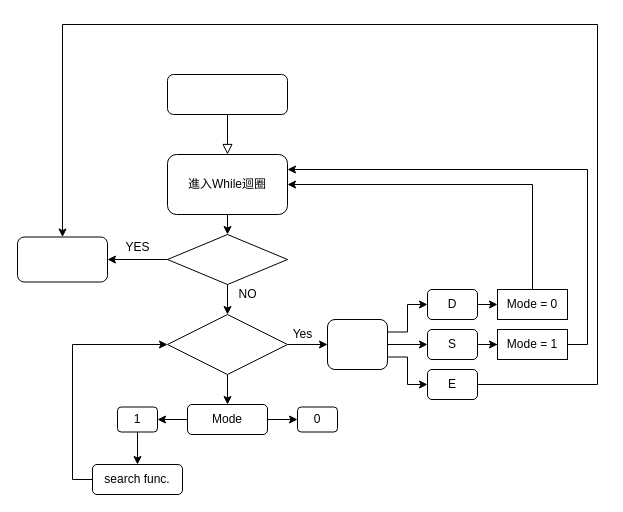
Some shapes in this 623 by 512 pixel diagram are drawn without their labels. The box of each missing label's shape, as (x1, y1, x2, y2) in pixels:
EOF: (166, 234, 288, 284)
Input[0]: (326, 318, 388, 370)
Input[1]=='\0': (166, 314, 288, 374)
Start: (166, 74, 288, 114)
程式停止: (16, 236, 108, 282)
